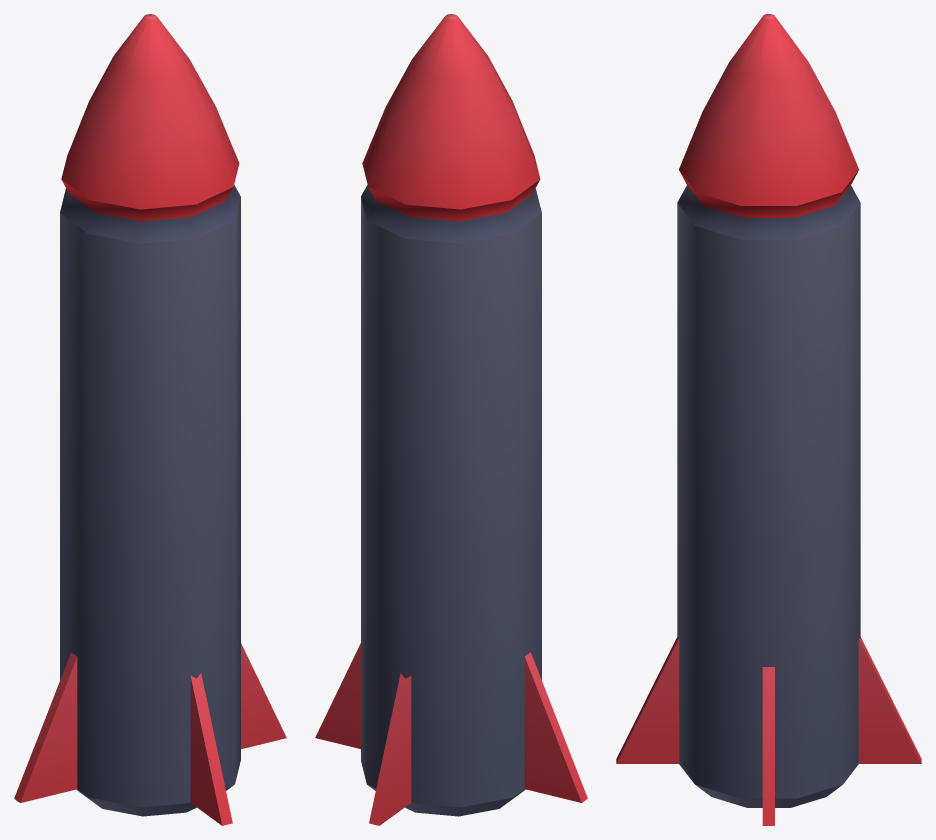
The model's file is Rocket A.fbx.
3 views of the same model, side by side, from view 1: azimuth 30°, elevation 25°; view 2: azimuth 150°, elevation 25°; view 3: azimuth 270°, elevation 25° (orthographic).
Parts seen in each view (by area): view 1: Rocket A; view 2: Rocket A; view 3: Rocket A.
Part boxes in pixels (left/top/right/bottom): Rocket A: left=14, top=14, right=286, bottom=825; Rocket A: left=315, top=14, right=587, bottom=825; Rocket A: left=616, top=14, right=921, bottom=825.
Size of the model in its own units: 0.2492 by 0.687 by 0.2492.
